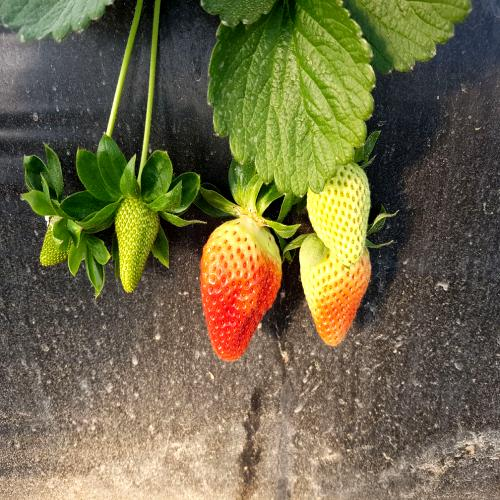partially-ripe: (196, 203, 282, 373), (299, 223, 376, 352)
